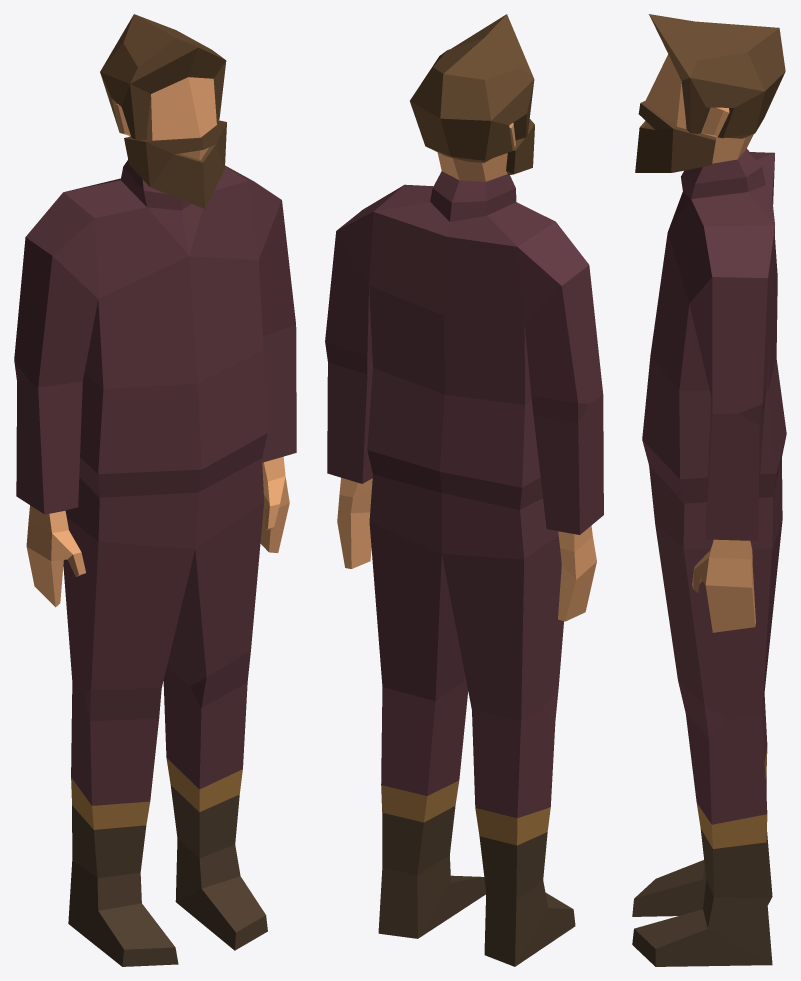
The model's file is man-sweater.fbx.
3 views of the same model, side by side, from view 1: azimuth 30°, elevation 25°; view 2: azimuth 150°, elevation 25°; view 3: azimuth 270°, elevation 25° (orthographic). The views are drawn at different scales.
Parts seen in each view (by area): view 1: man-sweater; view 2: man-sweater; view 3: man-sweater.
Boxes of the visible parts, left/top/right/bottom form: man-sweater: left=14, top=14, right=296, bottom=966; man-sweater: left=325, top=14, right=603, bottom=966; man-sweater: left=632, top=14, right=786, bottom=966.
Bounding box in the file's own units: 0.5509 × 1.84 × 0.2817.
